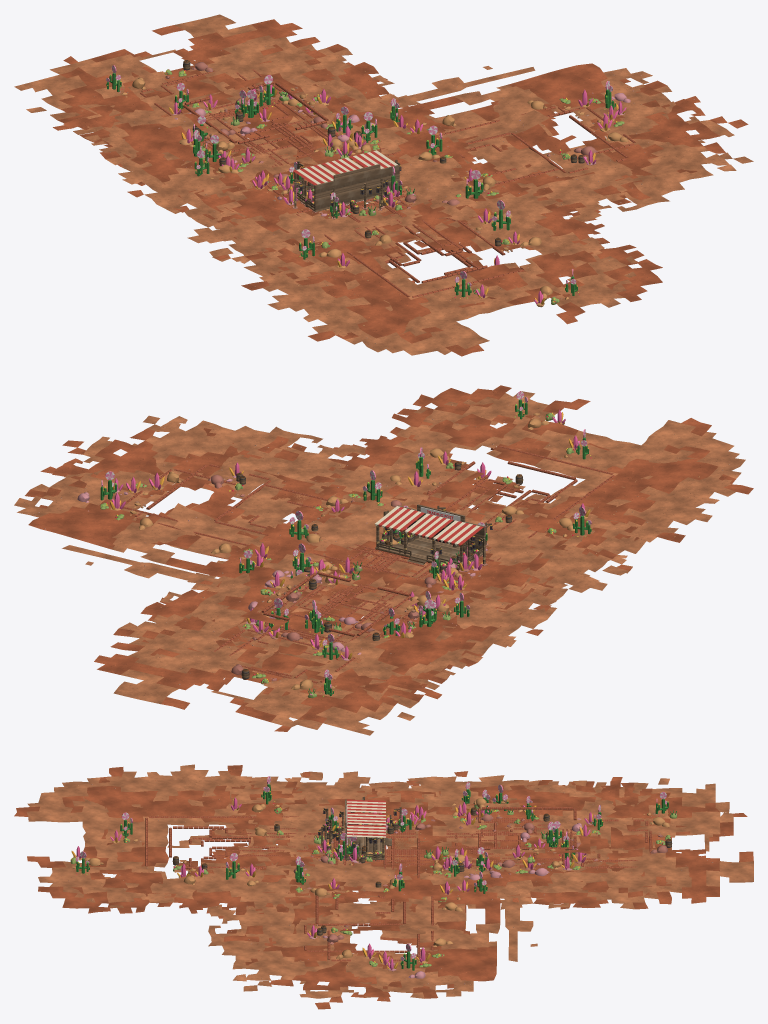
The model's file is sugarloaf_kit_pass6_b.fbx.
The picture shows the model from 3 angles, top to bottom: view 1: azimuth 30°, elevation 25°; view 2: azimuth 150°, elevation 25°; view 3: azimuth 270°, elevation 25°; orthographic projection. The views are drawn at different scales.
Parts seen in each view (by area): view 1: h12_ground__RedDirtLight, h15_ground__RedDirtLight, h18_ground__RedDirtLight, h18_ground__RedDirt, h13_ground__RedDirtLight, h15_ground__RedDirt, h09_ground__RedDirtLight, h08_ground__RedDirtLight, h03_ground__RedDirt, h03_ground__RedDirtLight, h01_ground__RedDirtLight, h12_ground__RedDirt (+34 smaller); view 2: h12_ground__RedDirtLight, h15_ground__RedDirtLight, h18_ground__RedDirtLight, h18_ground__RedDirt, h13_ground__RedDirtLight, h15_ground__RedDirt, h09_ground__RedDirtLight, h08_ground__RedDirtLight, h03_ground__RedDirt, h01_ground__RedDirtLight, h12_ground__RedDirt, h03_ground__RedDirtLight (+35 smaller); view 3: h12_ground__RedDirtLight, h15_ground__RedDirtLight, h18_ground__RedDirtLight, h13_ground__RedDirtLight, h18_ground__RedDirt, h15_ground__RedDirt, h09_ground__RedDirtLight, h08_ground__RedDirtLight, h03_ground__RedDirt, h03_ground__RedDirtLight, h01_ground__RedDirtLight, h12_ground__RedDirt (+35 smaller).
Part boxes in pixels (box(x1,y1,x2,y2)): h12_ground__RedDirtLight: box(276, 66, 729, 239); h15_ground__RedDirtLight: box(207, 164, 636, 355); h18_ground__RedDirtLight: box(14, 14, 477, 232); h18_ground__RedDirt: box(53, 19, 451, 228); h13_ground__RedDirtLight: box(187, 156, 613, 345); h15_ground__RedDirt: box(216, 162, 662, 356); h09_ground__RedDirtLight: box(350, 86, 632, 243); h08_ground__RedDirtLight: box(73, 39, 468, 202); h03_ground__RedDirt: box(209, 63, 748, 261); h03_ground__RedDirtLight: box(216, 68, 753, 249); h01_ground__RedDirtLight: box(152, 92, 473, 245); h12_ground__RedDirt: box(235, 79, 725, 247); h12_ground__RedDirtLight: box(30, 420, 549, 612); h15_ground__RedDirtLight: box(301, 391, 745, 594); h18_ground__RedDirtLight: box(113, 509, 560, 735); h18_ground__RedDirt: box(94, 499, 547, 722); h13_ground__RedDirtLight: box(320, 407, 731, 599); h15_ground__RedDirt: box(309, 385, 753, 595); h09_ground__RedDirtLight: box(112, 448, 505, 573); h08_ground__RedDirtLight: box(150, 509, 466, 696); h03_ground__RedDirt: box(28, 428, 584, 623); h01_ground__RedDirtLight: box(278, 500, 555, 669); h12_ground__RedDirt: box(25, 428, 531, 621); h03_ground__RedDirtLight: box(14, 415, 580, 617); h12_ground__RedDirtLight: box(208, 805, 537, 998); h15_ground__RedDirtLight: box(26, 764, 446, 918); h18_ground__RedDirtLight: box(276, 775, 753, 909); h13_ground__RedDirtLight: box(69, 771, 451, 903); h18_ground__RedDirt: box(264, 771, 753, 909); h15_ground__RedDirt: box(14, 765, 446, 918); h09_ground__RedDirtLight: box(212, 835, 500, 950); h08_ground__RedDirtLight: box(317, 781, 690, 899); h03_ground__RedDirt: box(233, 794, 508, 1009); h03_ground__RedDirtLight: box(233, 793, 507, 998); h01_ground__RedDirtLight: box(252, 805, 622, 891); h12_ground__RedDirt: box(223, 821, 519, 998).
Bounding box in the file's own units: 14385 × 1222 × 18670.
459 materials, 208 textured.
